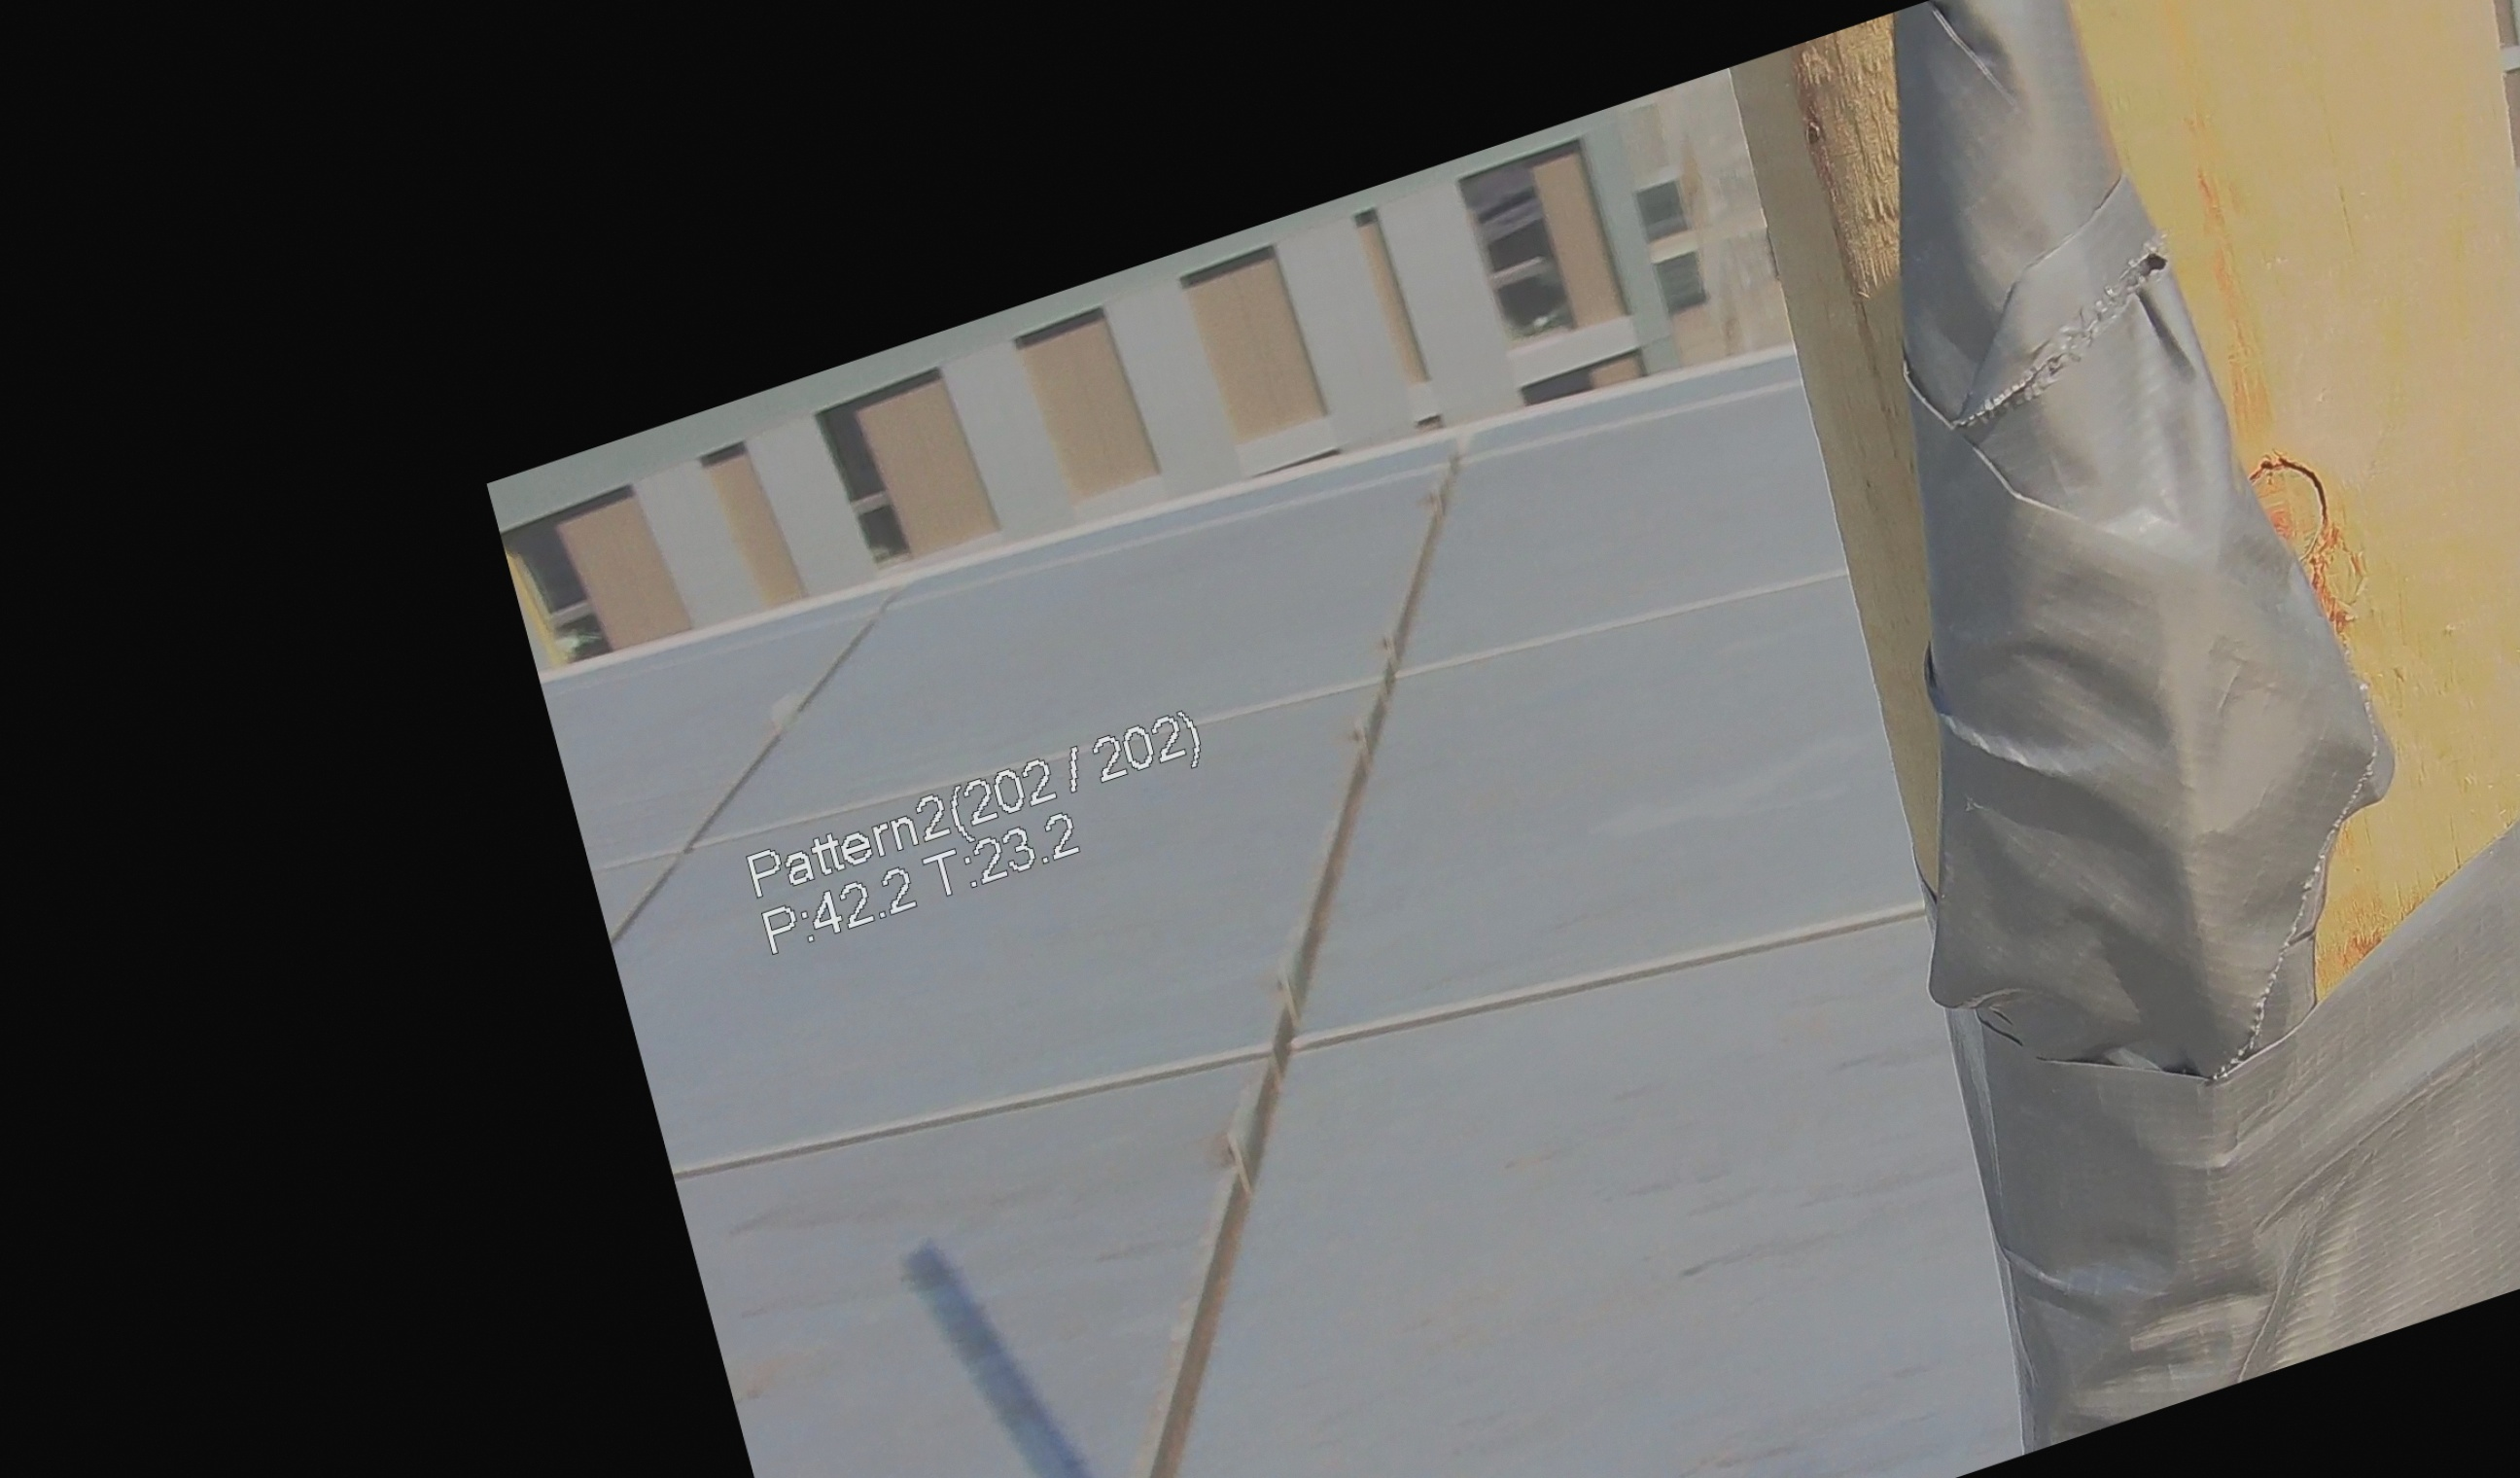Other: (1697, 0, 2485, 1232)
